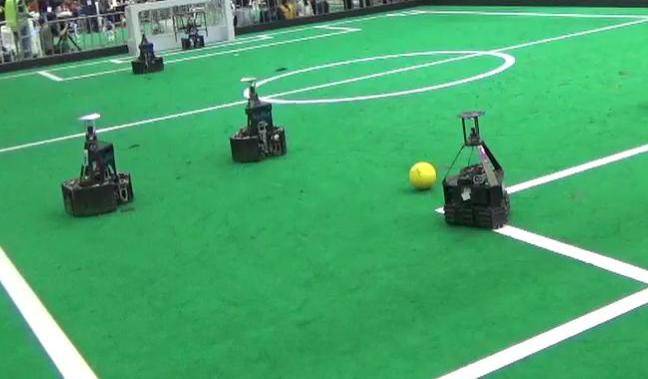robot: (437, 110, 518, 234), (56, 112, 141, 216), (226, 75, 293, 166)
